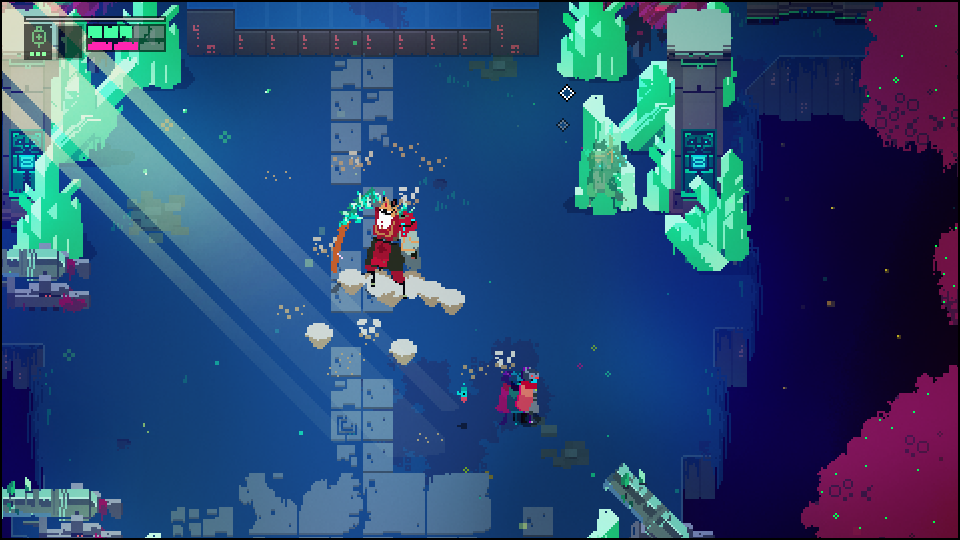hanged_man: (332, 190, 418, 298), (516, 368, 541, 426)
